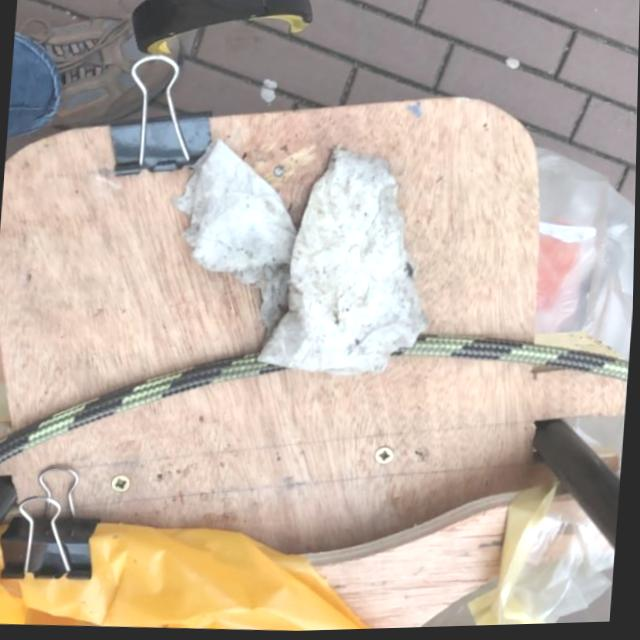Paper: (157, 131, 450, 390)
